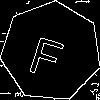F: (26, 26, 69, 80)
